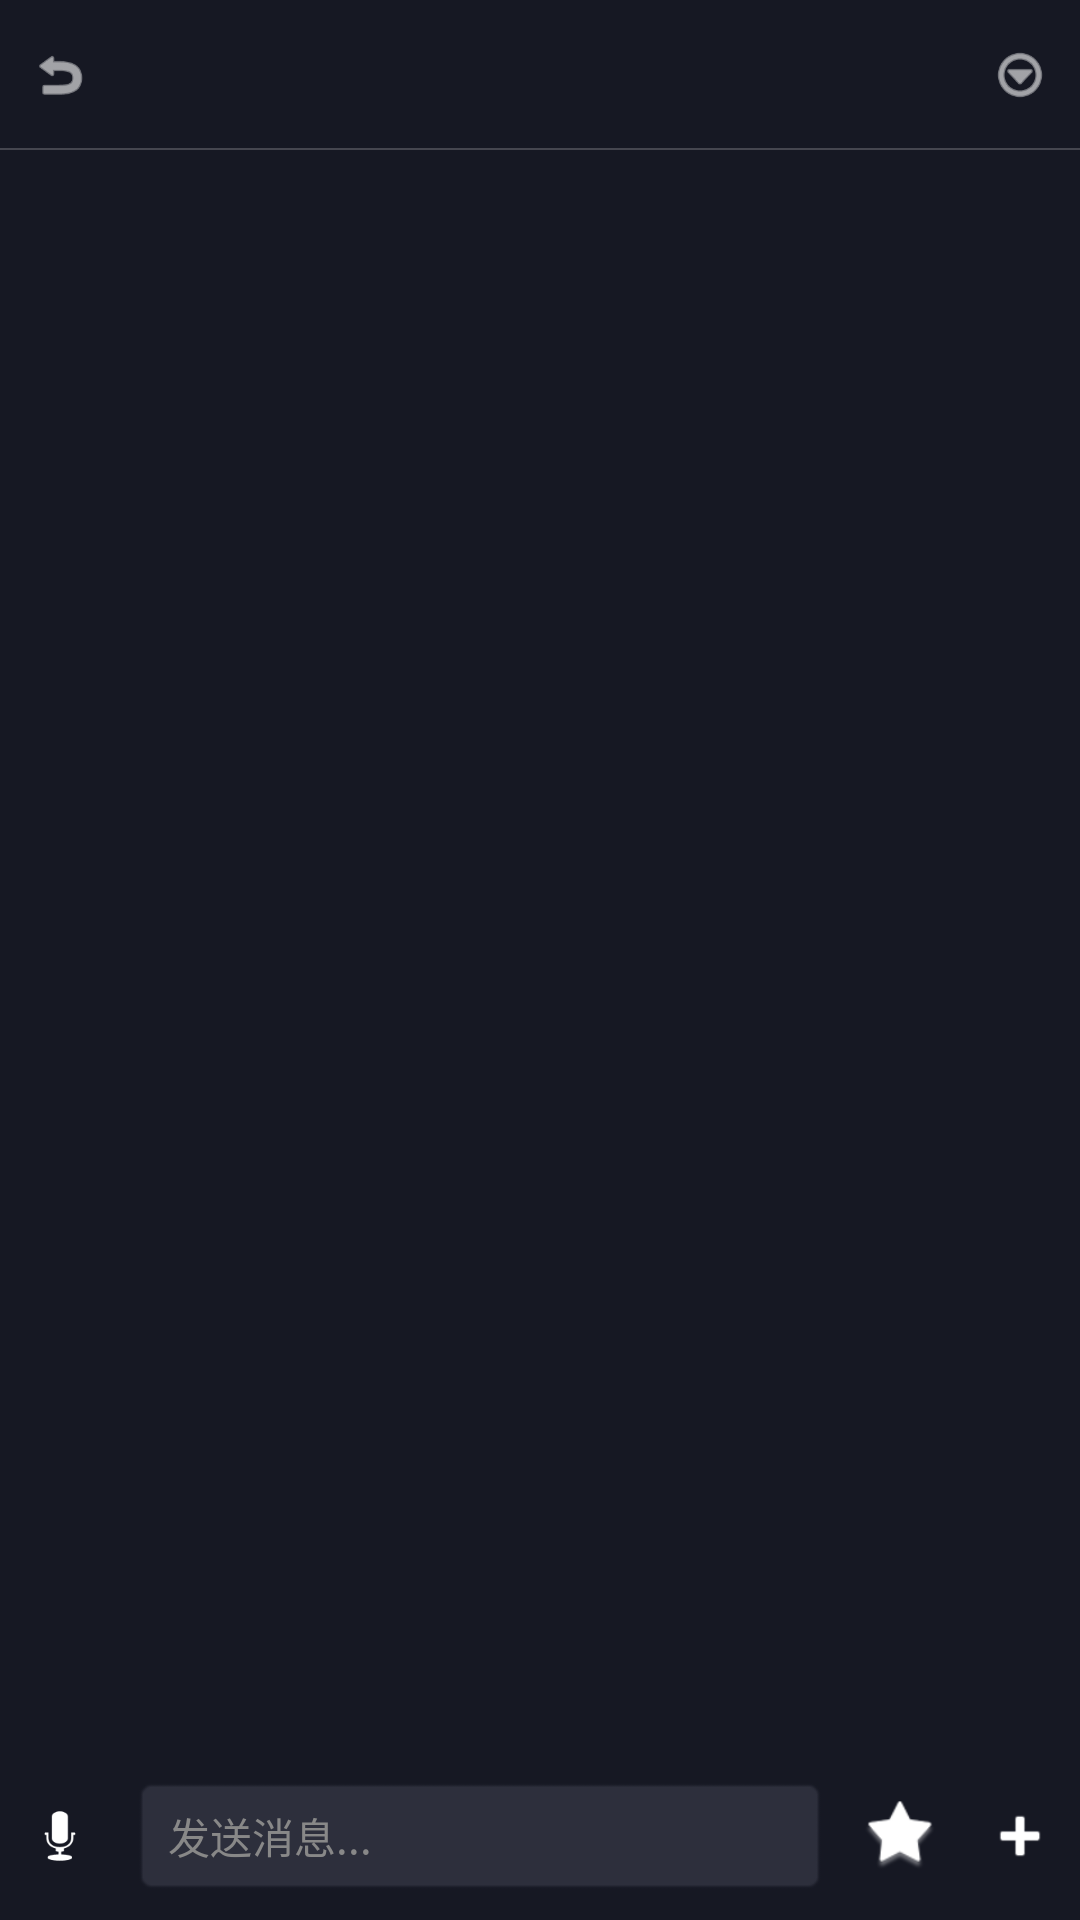

Named icons in this screenshot (1080 × 1920) and their bounding boxes, [left=x1, top=y1, right=x2, bottom=y2]:
add: [left=999, top=1816, right=1041, bottom=1856]
more: [left=998, top=53, right=1042, bottom=97]
revert: [left=39, top=56, right=82, bottom=95]
speak now: [left=44, top=1811, right=76, bottom=1861]
star on: [left=868, top=1801, right=932, bottom=1866]
